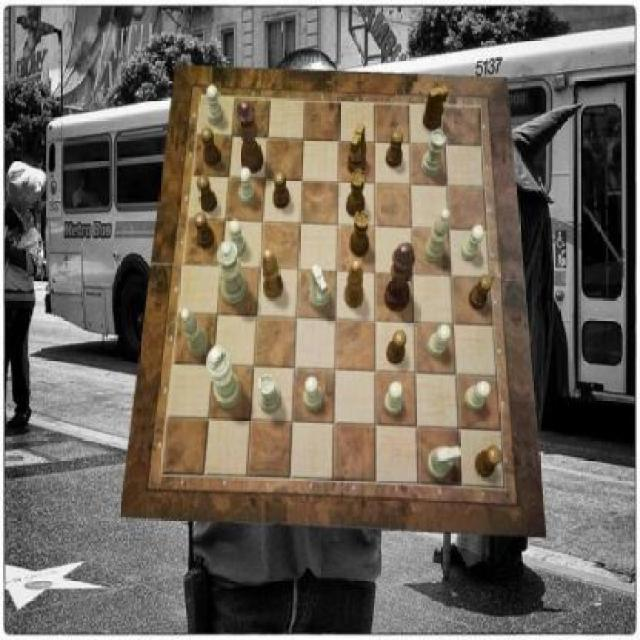bishop: (261, 249, 284, 300), (344, 258, 364, 310)
black-bishop: (384, 243, 414, 312)
black-king: (423, 85, 448, 130), (348, 121, 367, 176)
black-knight: (476, 446, 502, 479), (202, 128, 222, 168), (470, 274, 492, 310), (194, 212, 214, 250), (197, 175, 217, 213), (388, 329, 408, 364), (386, 129, 403, 168), (274, 171, 291, 208)
black-pawn: (237, 99, 264, 173)
black-queen: (351, 211, 371, 257), (348, 171, 365, 218)
black-rook: (426, 209, 451, 263), (182, 309, 210, 357)
white-bishop: (206, 345, 242, 407)
white-king: (428, 446, 460, 480), (309, 265, 330, 310)
white-knight: (464, 380, 490, 411), (462, 224, 484, 260), (428, 325, 450, 357), (304, 375, 324, 410), (384, 382, 404, 416), (208, 84, 225, 124), (240, 166, 257, 204), (229, 219, 246, 256)
white-pawn: (217, 242, 247, 306)
white-queen: (422, 131, 446, 178), (258, 375, 282, 414)
